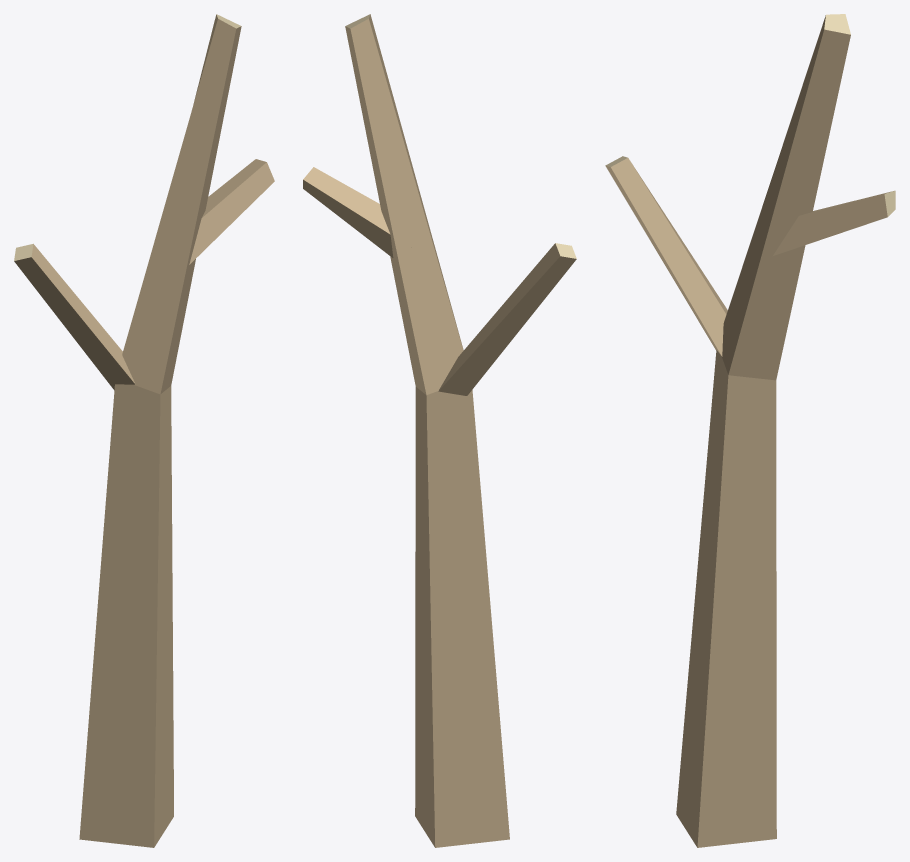
Rendered from TB_D_Env_DeadTreeC_E.FBX.
The picture shows the model from 3 angles, left to right: view 1: azimuth 30°, elevation 25°; view 2: azimuth 150°, elevation 25°; view 3: azimuth 330°, elevation 25°; orthographic projection. The views are drawn at different scales.
Parts seen in each view (by area): view 1: TB_D_Env_DeadTreeC_E; view 2: TB_D_Env_DeadTreeC_E; view 3: TB_D_Env_DeadTreeC_E.
Part boxes in pixels (x1=…): TB_D_Env_DeadTreeC_E: x1=14, y1=14, x2=274, y2=847; TB_D_Env_DeadTreeC_E: x1=303, y1=14, x2=576, y2=847; TB_D_Env_DeadTreeC_E: x1=605, y1=14, x2=895, y2=847.
Size of the model in its own units: 2.06 by 5.86 by 0.7393.
